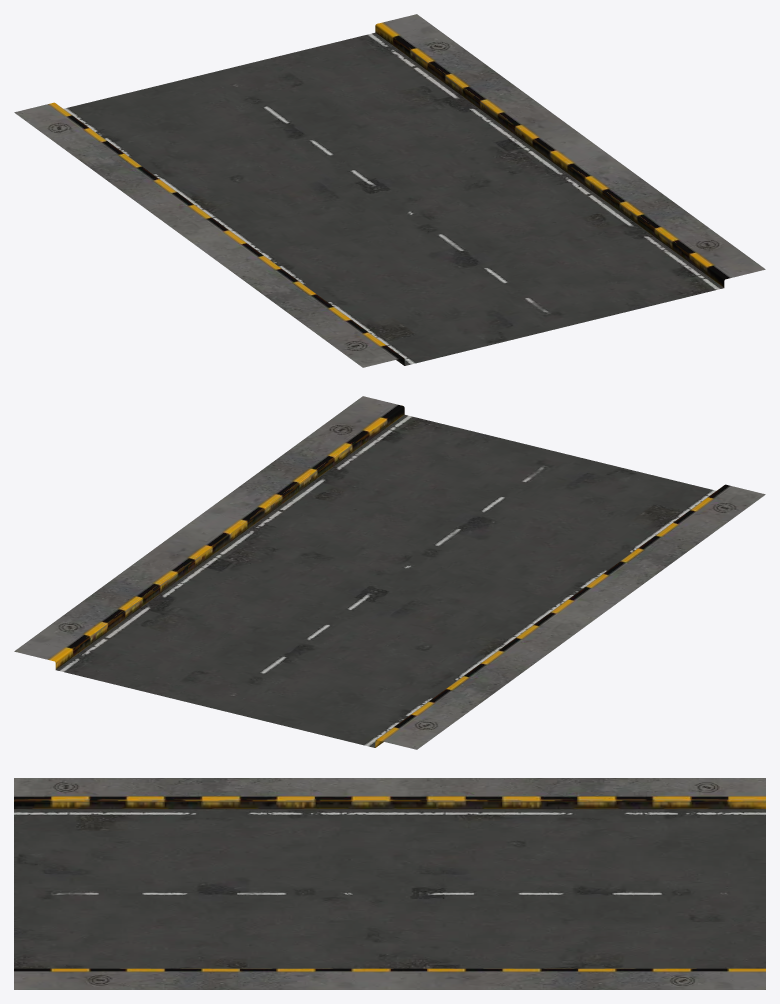
The model's file is road__avenue__street.glb.
3 renders of one model, top to bottom at view 1: azimuth 30°, elevation 25°; view 2: azimuth 150°, elevation 25°; view 3: azimuth 270°, elevation 25°, orthographic. The views are drawn at different scales.
Visible parts, largest first — view 1: Object_2; view 2: Object_2; view 3: Object_2.
Part boxes in pixels (x1,y1,x2,y2): Object_2: [14, 14, 765, 367]; Object_2: [14, 396, 765, 749]; Object_2: [14, 778, 765, 989].
Bounding box in the file's own units: 1000 × 19.96 × 1500.
Materials: 1 (1 with a texture image).
